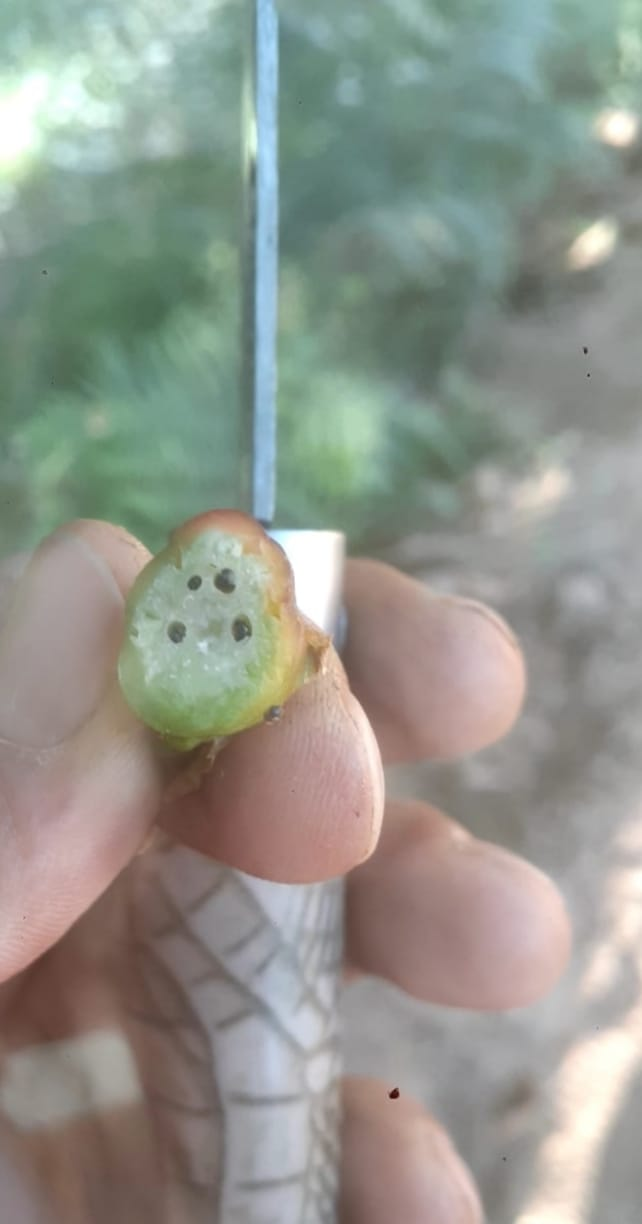galarisi: (103, 507, 337, 746)
